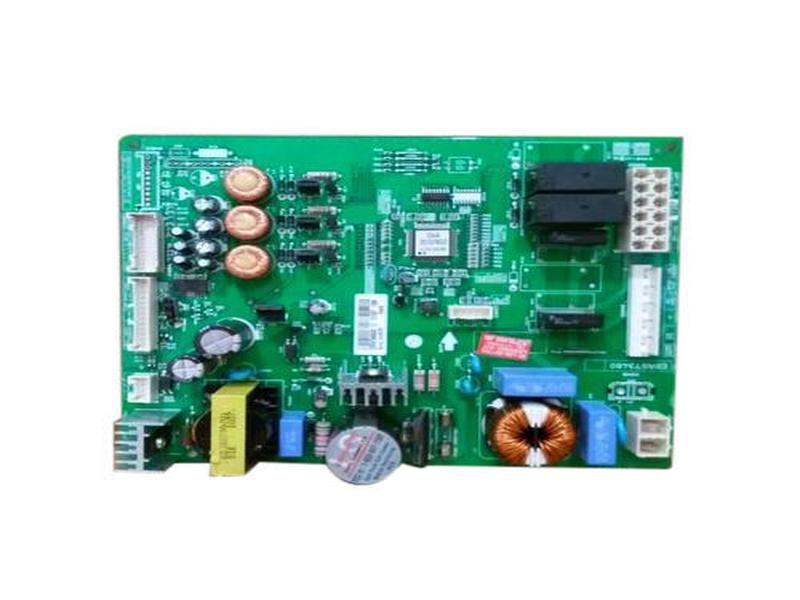circuit_board: (103, 122, 697, 491)
